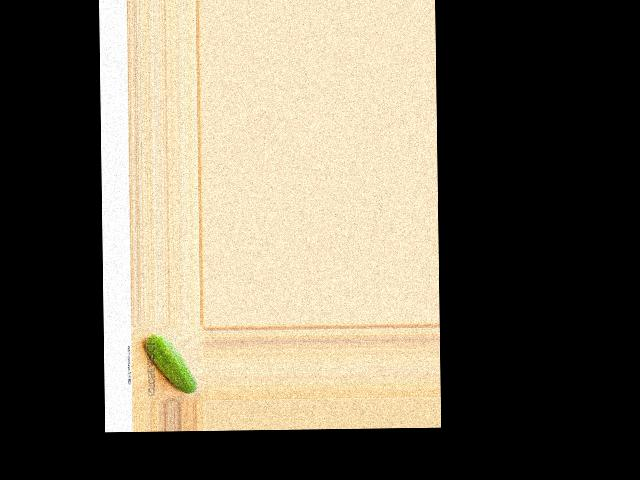cucumber: (144, 332, 197, 394)
